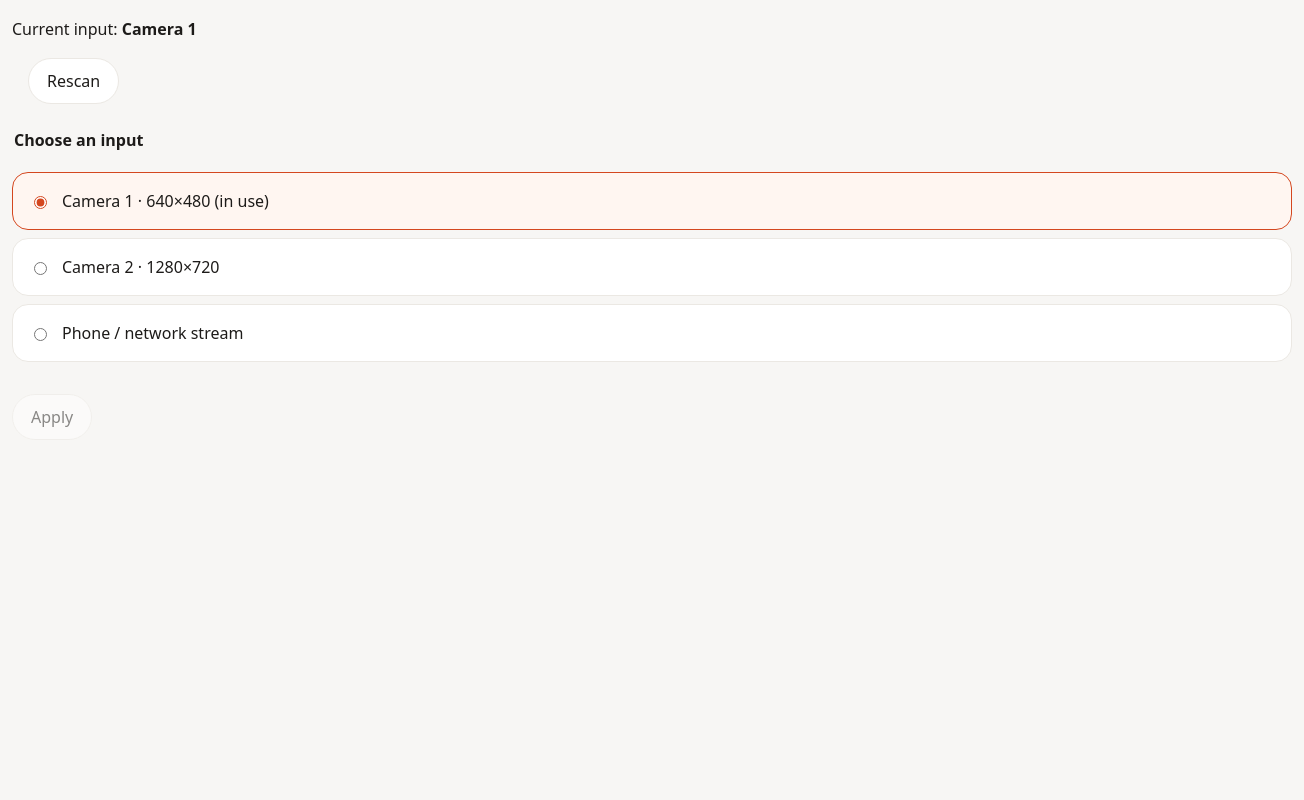
Test: explains how a stream password is stored
Check: the text "Camera 1" is shown, box [122,18,197,40]
Click the radio button labelled "Phone / network stream".
click(40, 335)  # box [34,328,47,341]
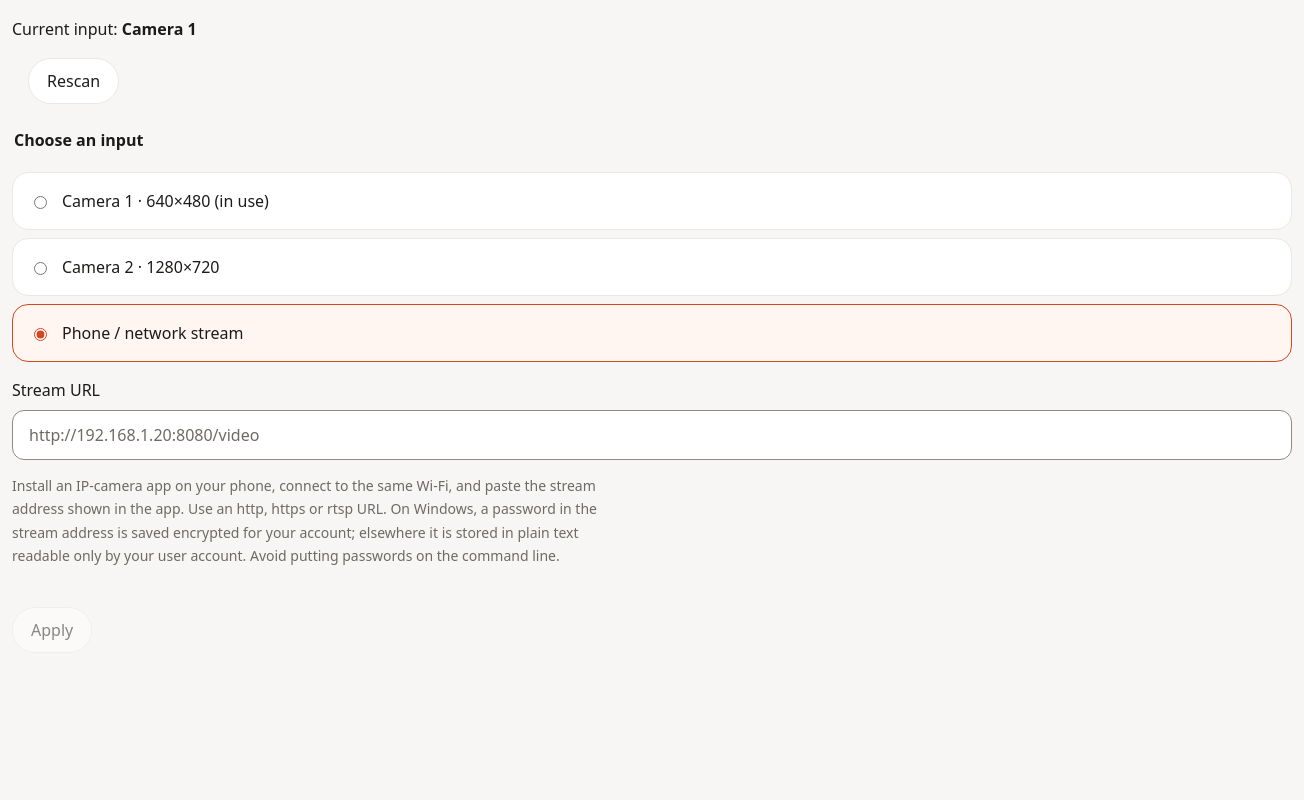
Check: the text "saved encrypted for your account" shows "elsewhere it is stored in plain text readable only by your user account", box [12,476,597,565]
Check: the text "saved encrypted for your account" shows "avoid putting passwords on the command line", box [12,476,597,565]
